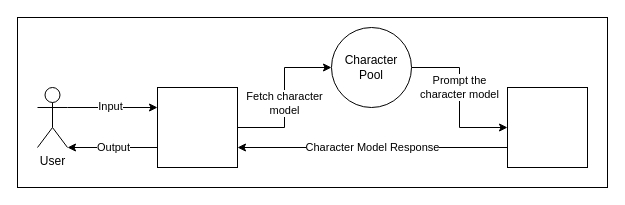
This 625x205 diagram has some shape labels left out. The centre of each missing label's shape, as x and y in pixels:
Character Model: point 547,127
Conversation User Interface: point 197,127
